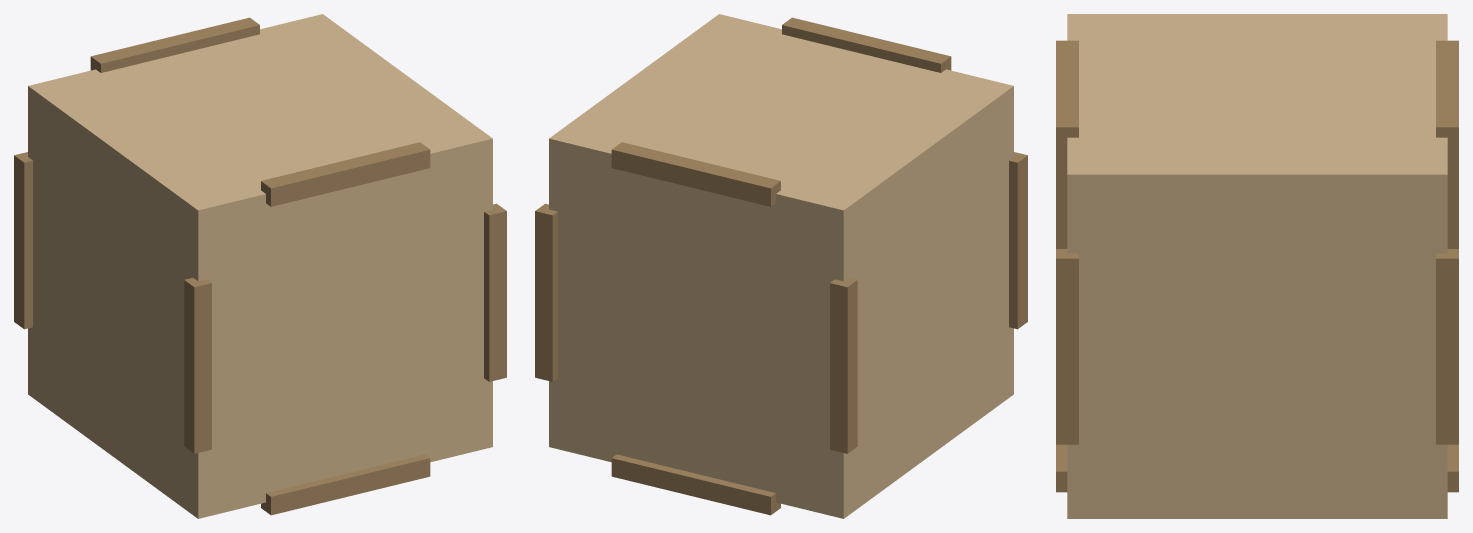
File: Crate_2.glb
3 views of the same model, side by side, from view 1: azimuth 30°, elevation 25°; view 2: azimuth 150°, elevation 25°; view 3: azimuth 270°, elevation 25° (orthographic). The views are drawn at different scales.
Parts seen in each view (by area): view 1: Crate_2; view 2: Crate_2; view 3: Crate_2.
Part boxes in pixels (box(x1,y1,x2,y2)): Crate_2: box(14, 14, 506, 518); Crate_2: box(535, 14, 1027, 518); Crate_2: box(1056, 14, 1458, 518).
Size of the model in its own units: 0.265 by 0.265 by 0.265.
